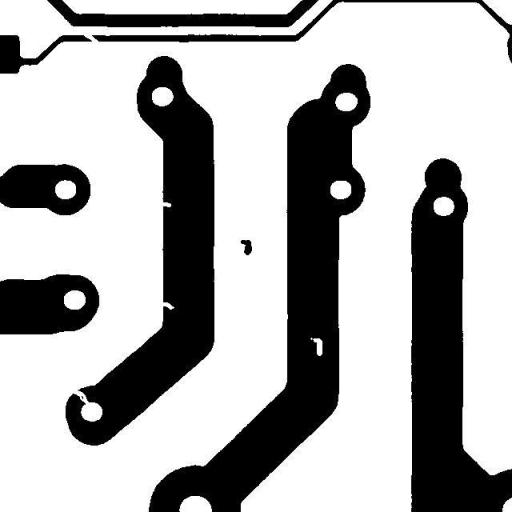copper: (233, 232, 259, 262)
mousebite: (148, 294, 182, 316), (152, 194, 178, 214)
open: (62, 381, 96, 412), (74, 22, 106, 52)
pin-hole: (302, 330, 330, 363)
